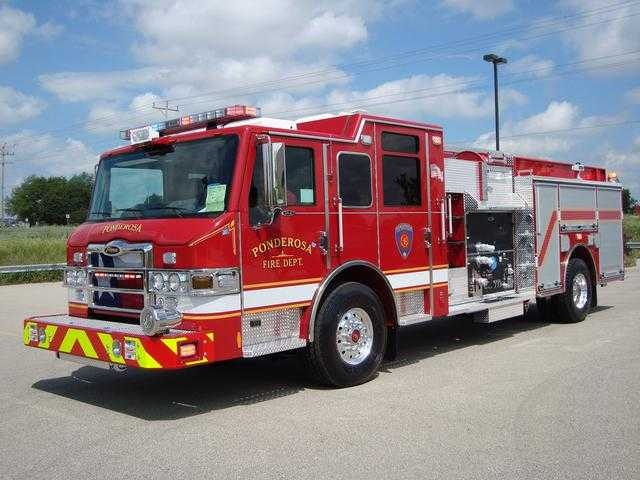Fire Truck: (27, 92, 632, 391)
